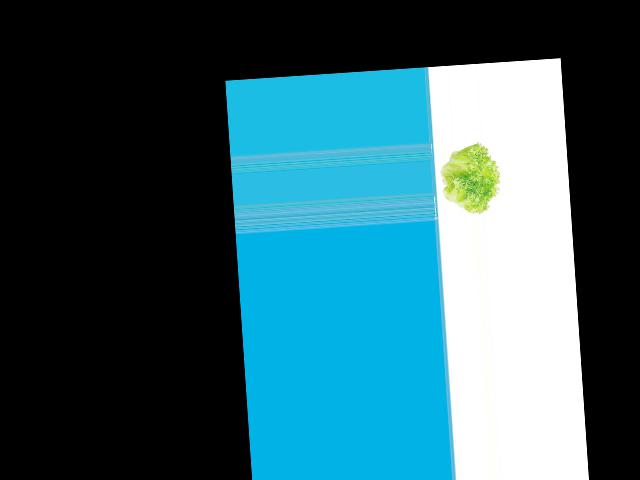lettuce: (434, 143, 504, 216)
